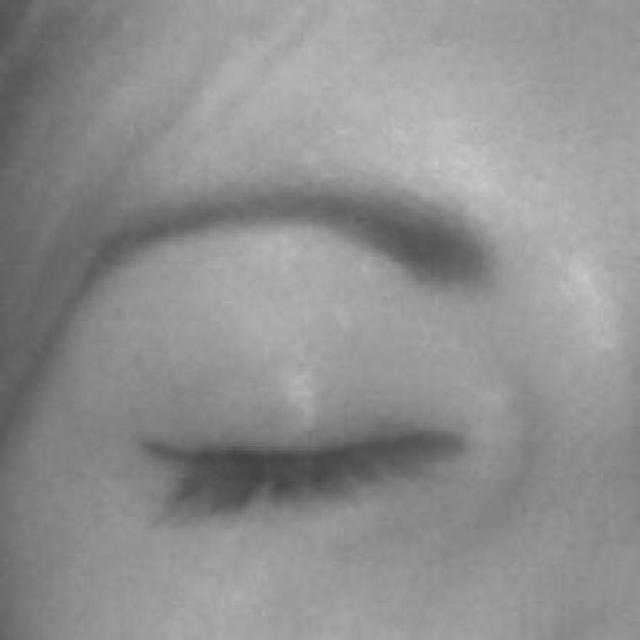drowsy: (122, 302, 464, 626)
